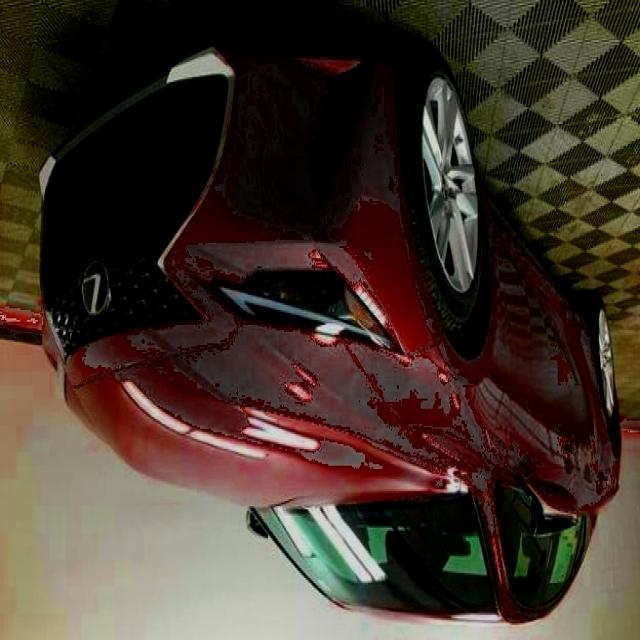maroon: (39, 58, 617, 639)
